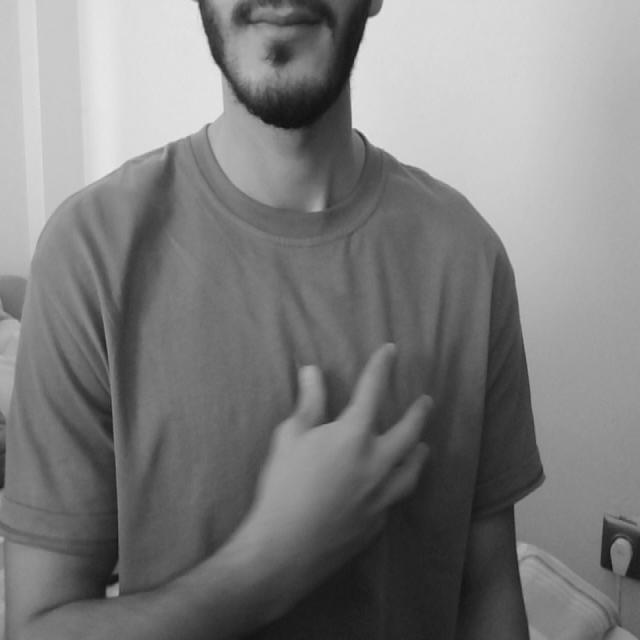Anne: (116, 340, 470, 577)
